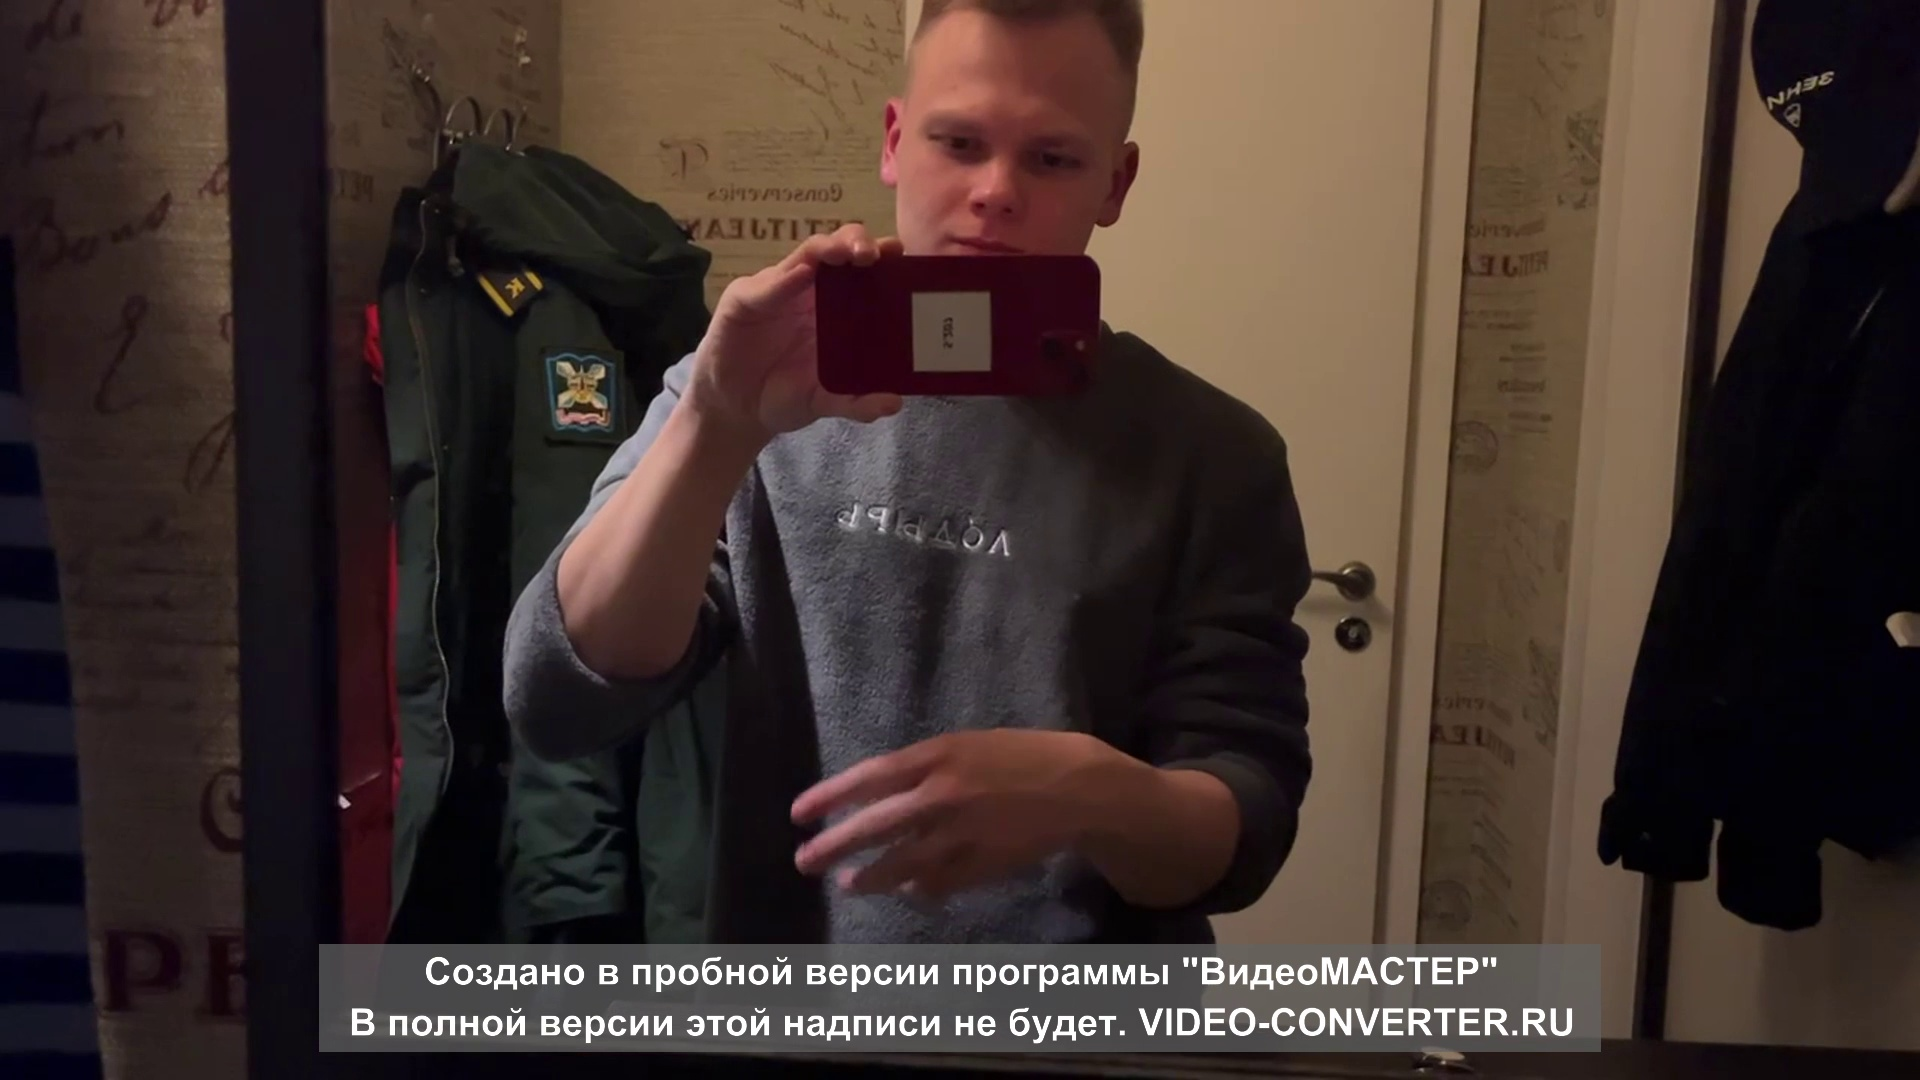Кисть: (791, 724, 1102, 906)
